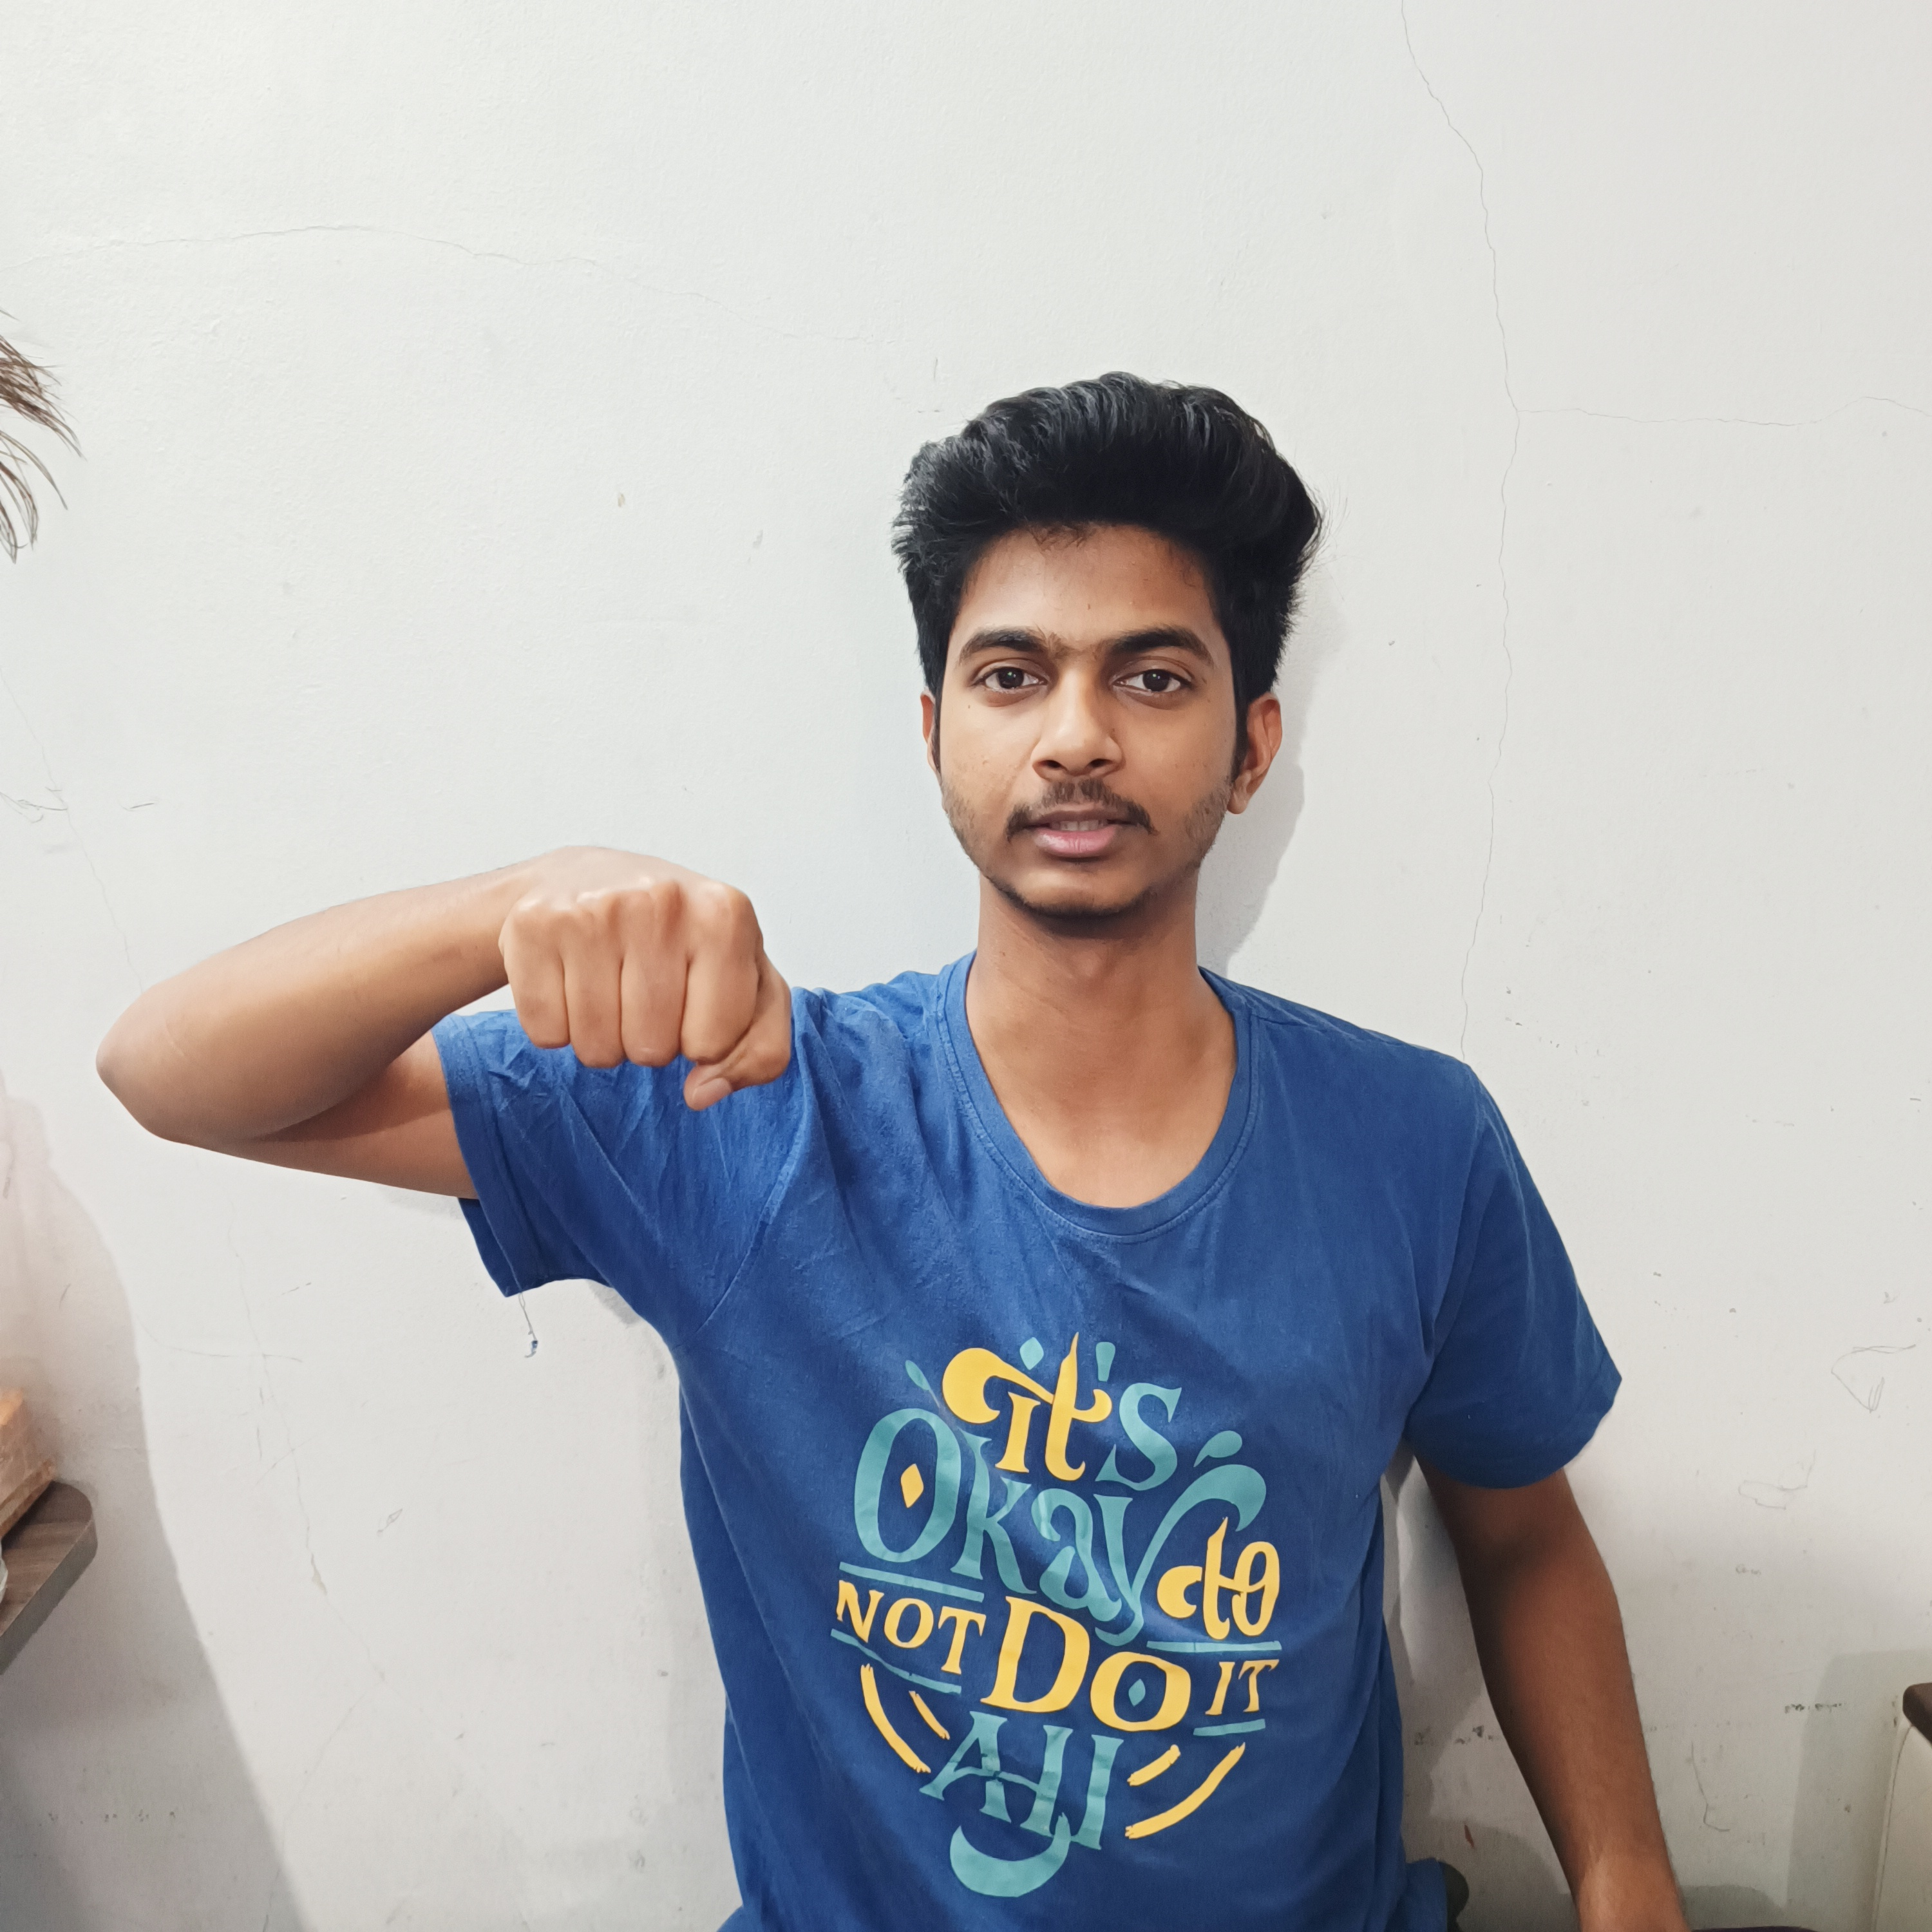Yes: (451, 809, 839, 1146)
